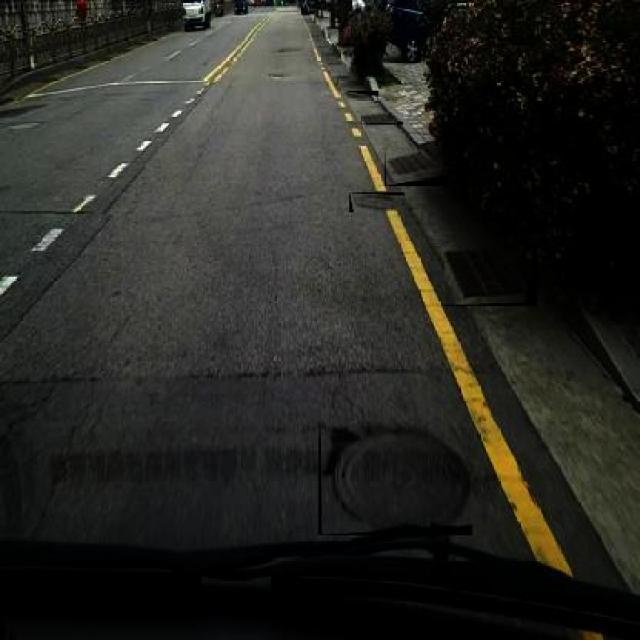Manhole: (318, 421, 472, 536), (444, 242, 538, 306), (384, 149, 448, 186), (350, 192, 406, 212), (359, 112, 404, 125), (344, 91, 379, 100)
Pothole: (268, 45, 304, 57), (264, 71, 295, 84)
